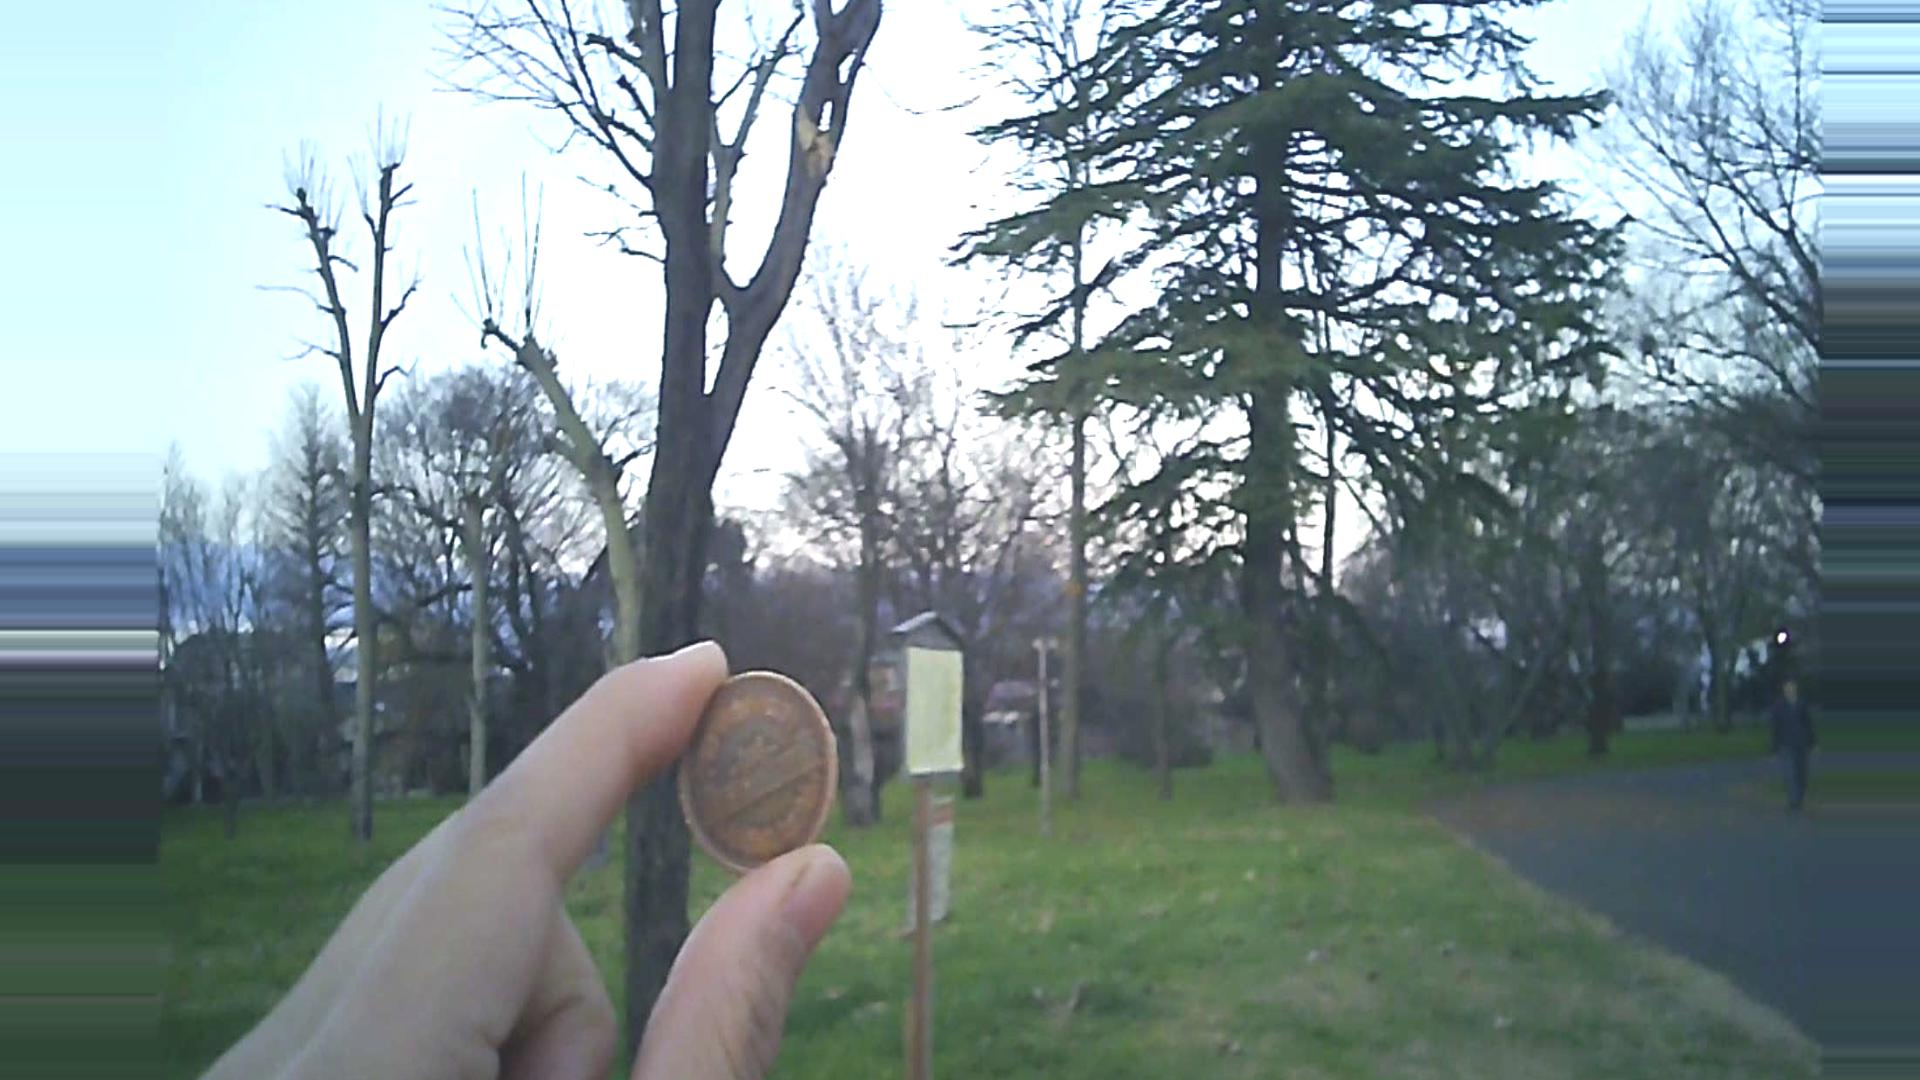10 Yen: (678, 655, 825, 866)
